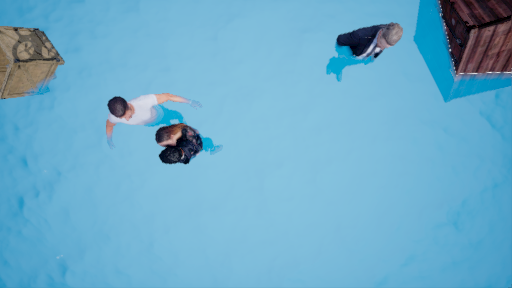person: (104, 85, 215, 177), (317, 17, 402, 92)
